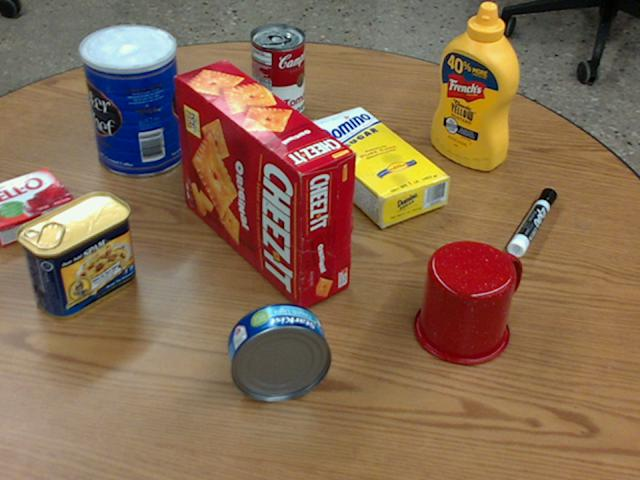cracker_box: (174, 60, 355, 308)
gelatin_box: (0, 167, 75, 243)
large_marker: (508, 188, 557, 257)
master_chef_can: (80, 25, 183, 176)
mug: (413, 240, 521, 364)
mustard_bottle: (432, 4, 519, 169)
potted_meat_can: (16, 190, 133, 316)
sugar_box: (299, 107, 449, 226)
tomato_soup_can: (250, 23, 305, 120)
tuna_fish_can: (228, 303, 332, 400)
